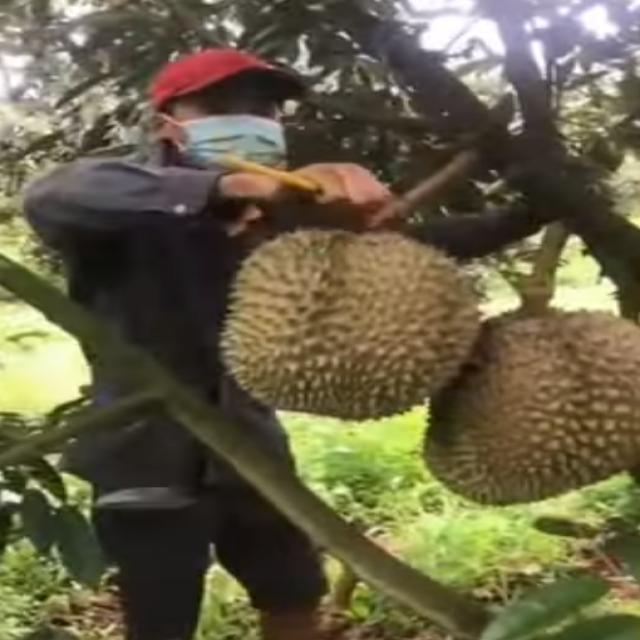mature: (203, 224, 490, 423), (421, 301, 640, 505)
